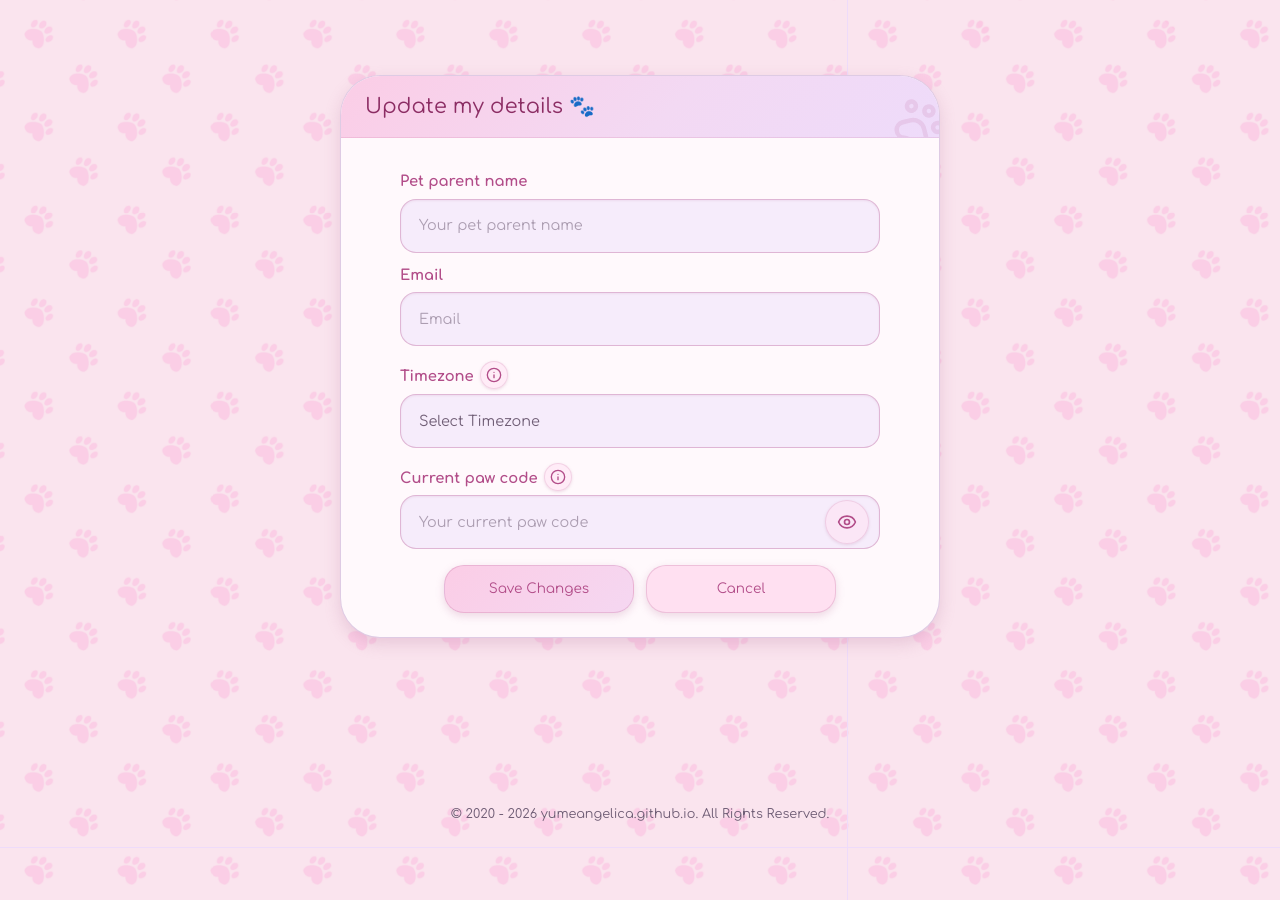
Test case: PageEditProfile behaviour › surfaces field errors and the message when the update fails
Type "Angelica" into the field with id "editprofile-username". click: (640, 226)
box: [401,200,879,252]
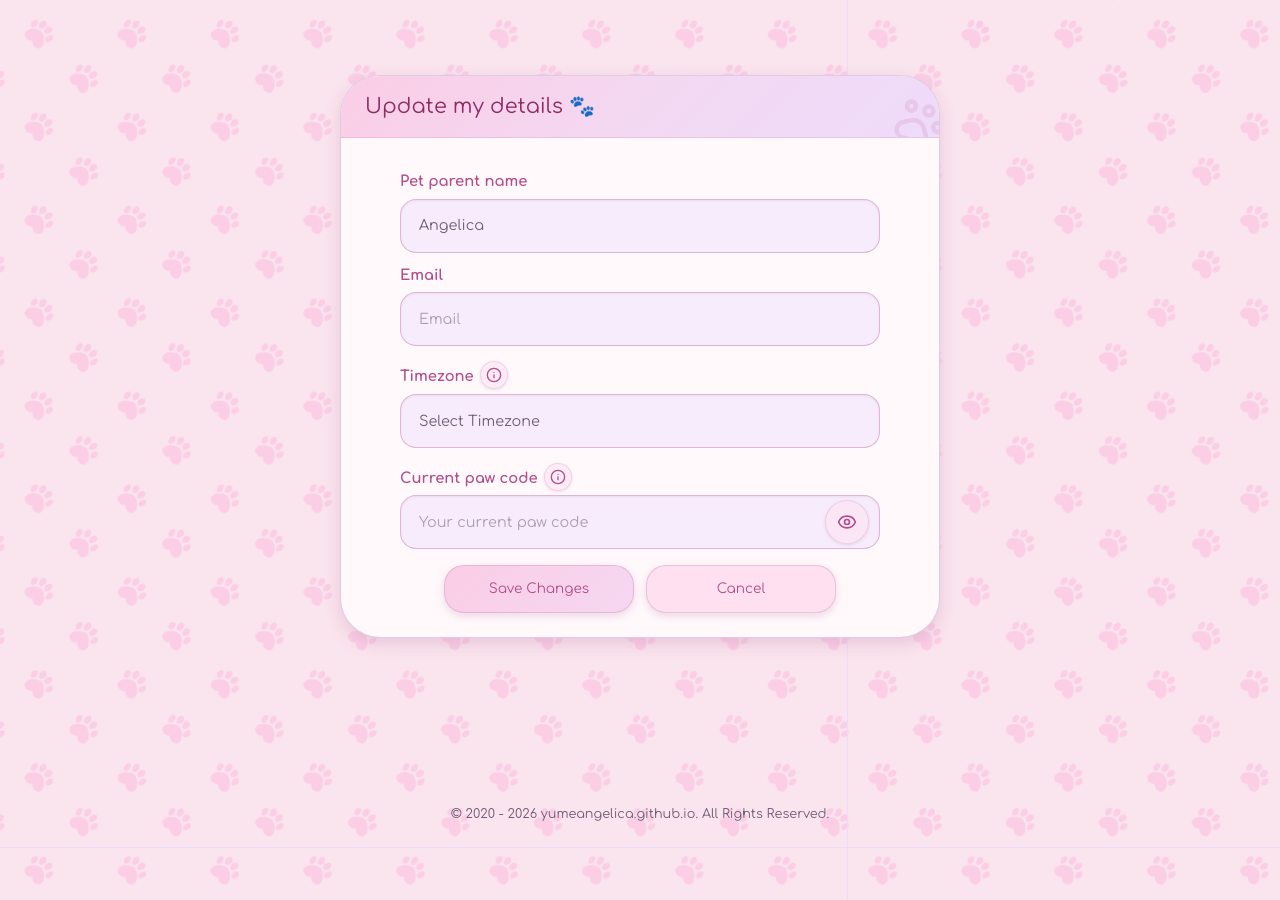
Type "angelica@example.com" into the field with id "editprofile-email". click: (640, 319)
box: [401,293,879,345]
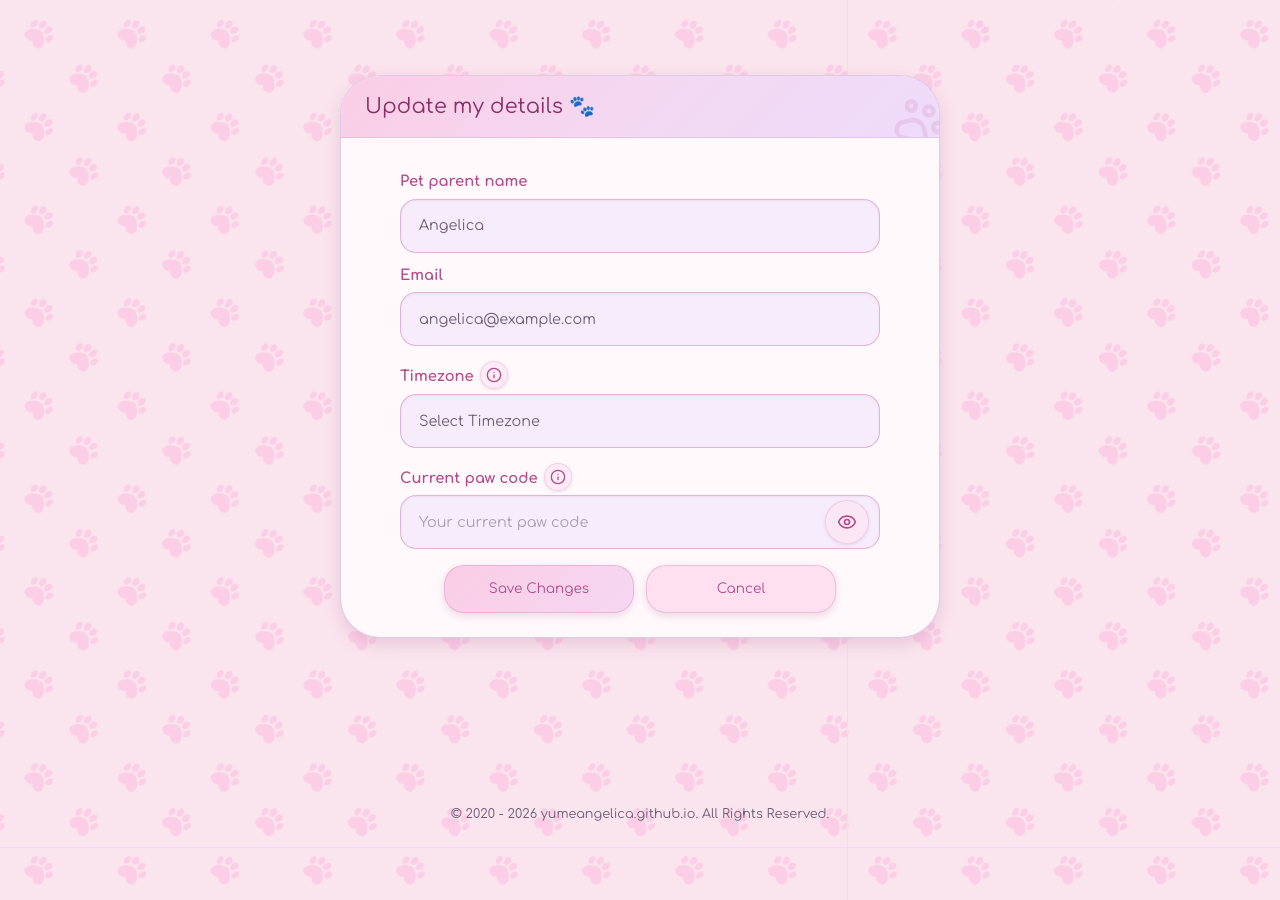
Type "current-code" into the password field with id "editprofile-current-password". click: (640, 522)
box: [401,496,879,548]
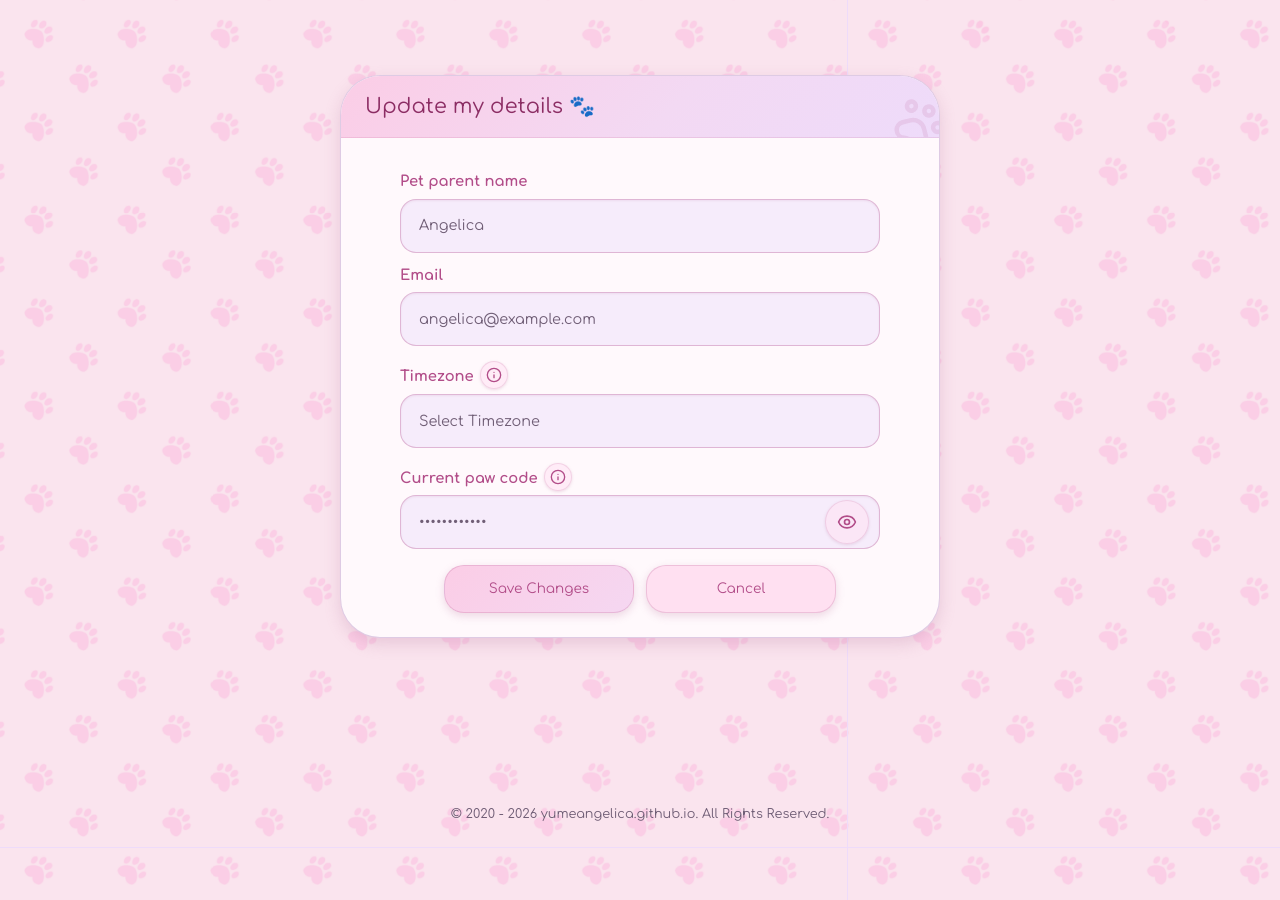
Submit the form, box [400,170,880,613]
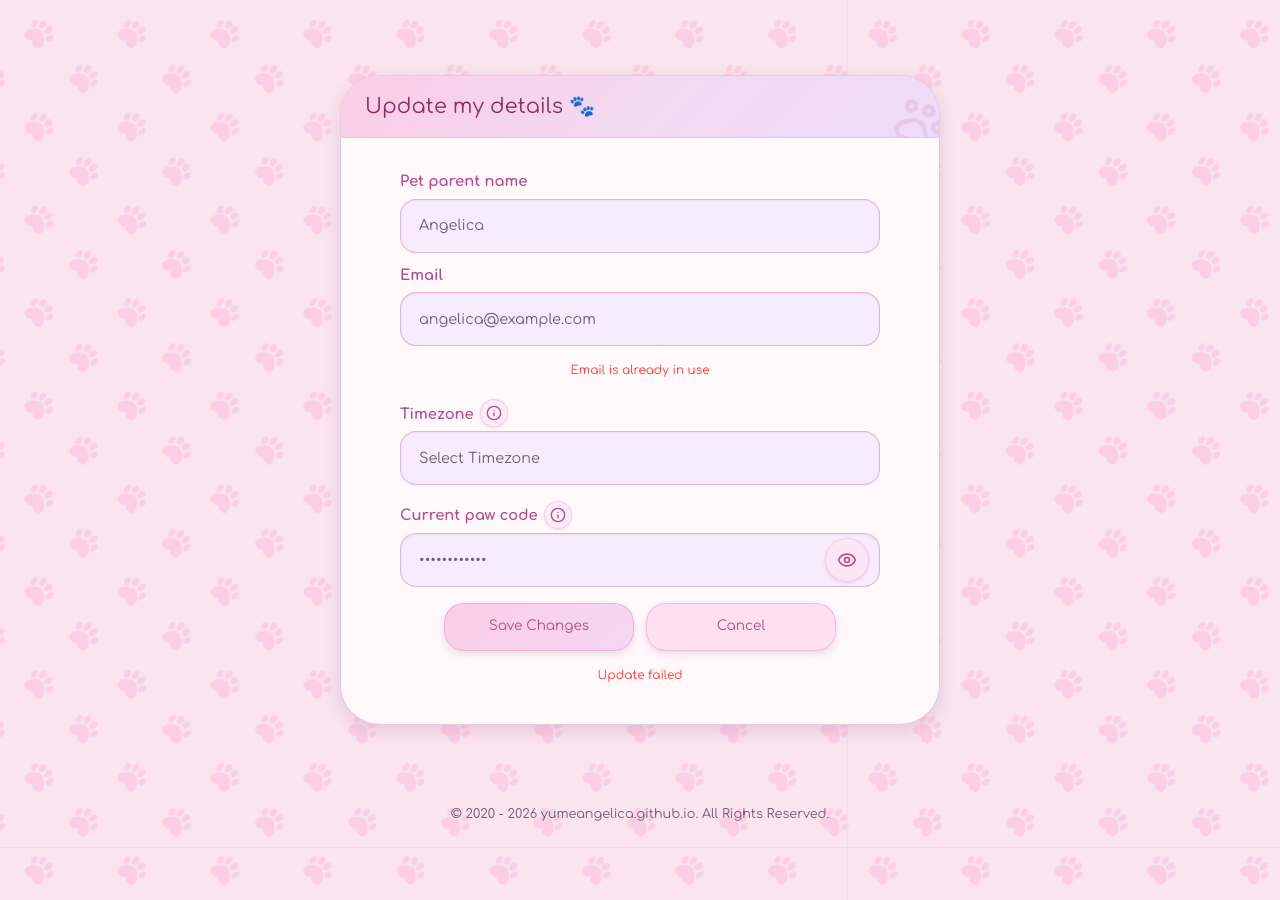
Check: the message with id "editprofile-email-error" reads "Email is already in use", box [570,363,710,377]
Check: the text "Update failed" is shown, box [598,668,682,682]
